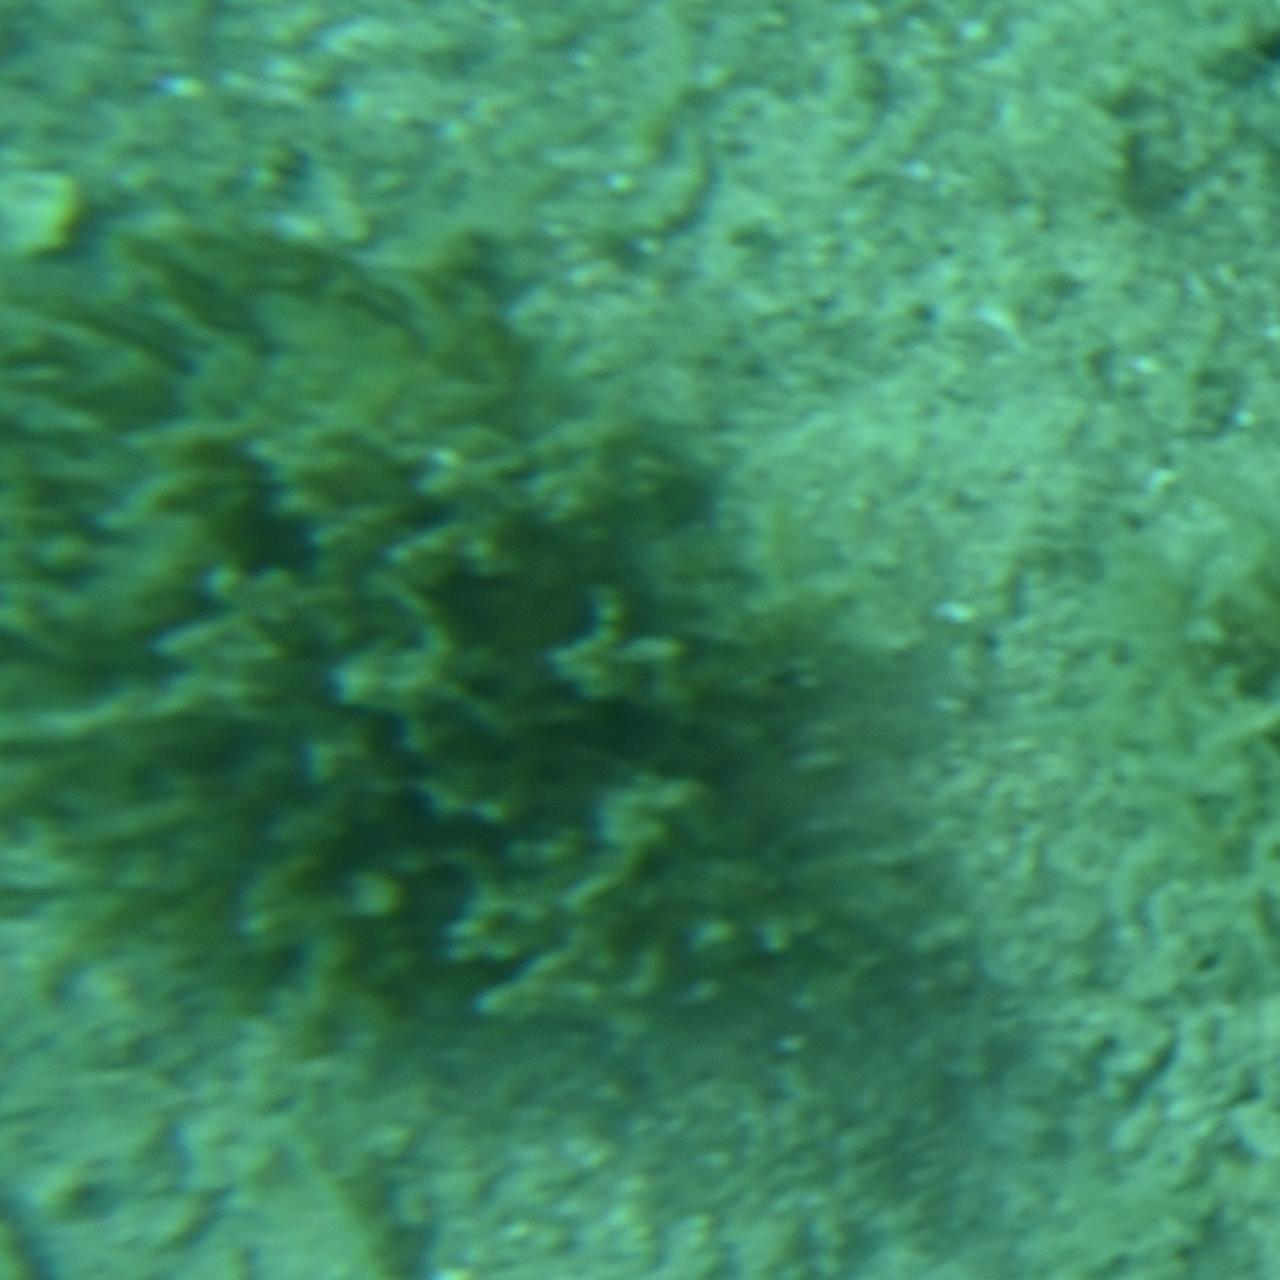Phaeophyceae -cfr Cystoseira-: (0, 241, 926, 1039)
